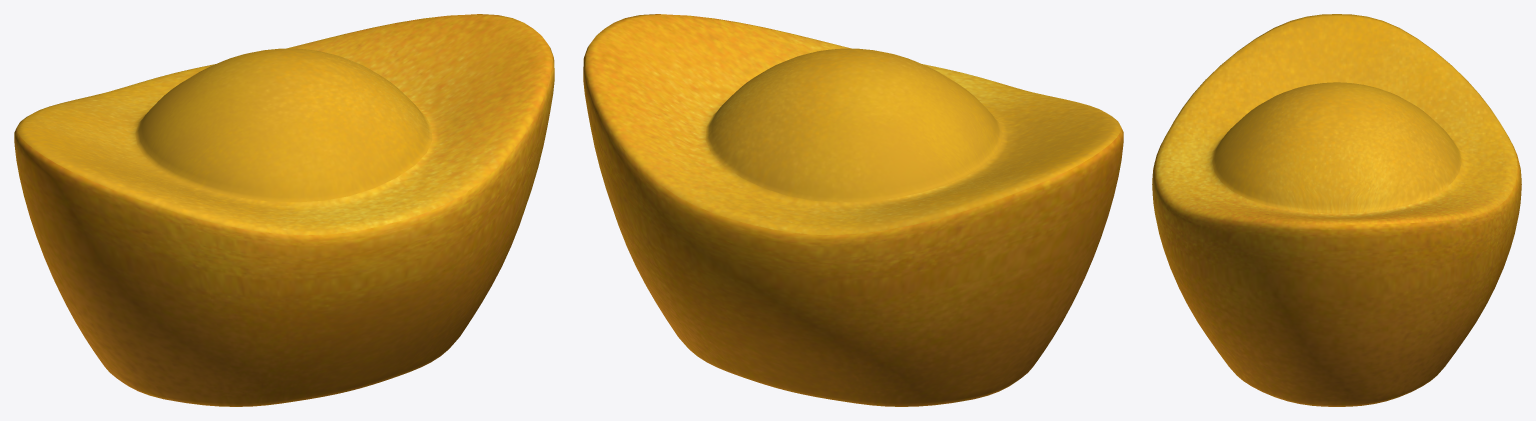
The model's file is Golden.gltf.
3 renders of one model, left to right at view 1: azimuth 30°, elevation 25°; view 2: azimuth 150°, elevation 25°; view 3: azimuth 270°, elevation 25°, orthographic. The views are drawn at different scales.
Parts seen in each view (by area): view 1: pCube6; view 2: pCube6; view 3: pCube6.
Part boxes in pixels (box(x1,y1,x2,y2)): pCube6: box(14, 14, 554, 406); pCube6: box(583, 14, 1123, 406); pCube6: box(1152, 14, 1521, 406).
Bounding box in the file's own units: 1.42 × 0.7646 × 1.04.
Materials: 1 (1 with a texture image).
